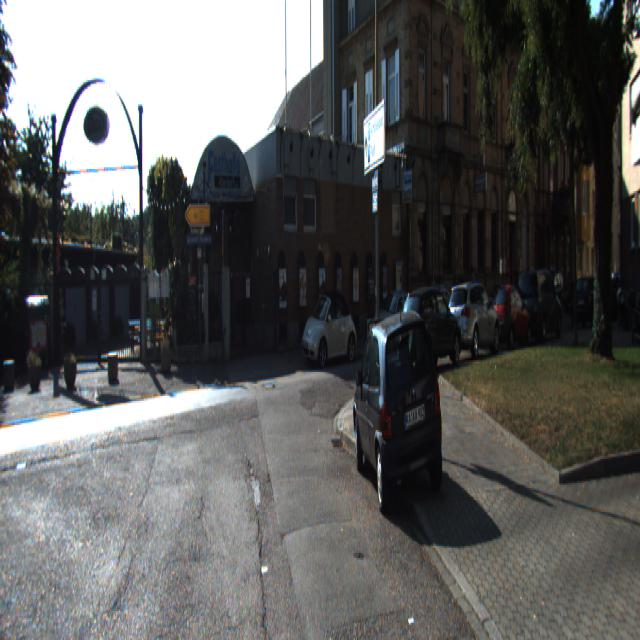Car: (352, 307, 447, 507), (398, 281, 463, 376), (446, 279, 502, 361), (302, 290, 357, 370), (517, 266, 564, 342), (492, 282, 532, 348)
